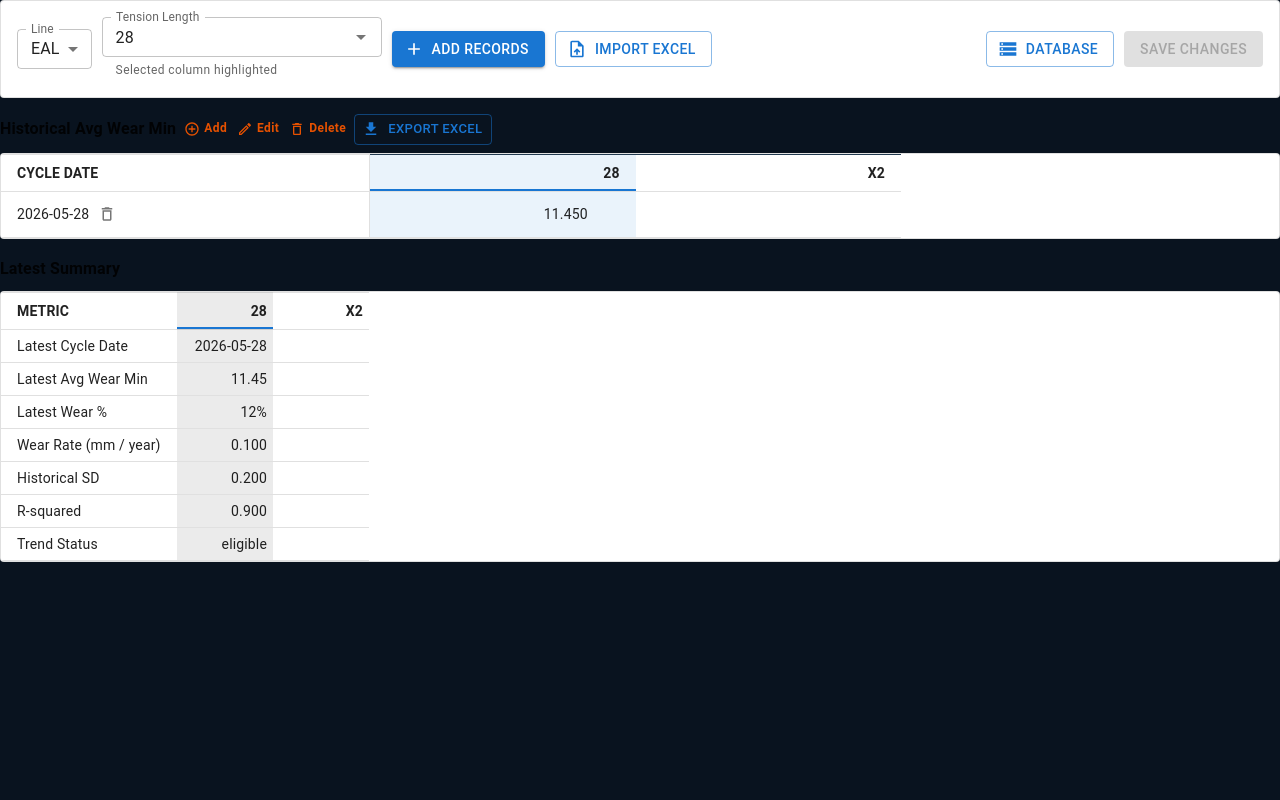
Test: WearRecordsPanel staged workbench › opens metadata-owned Add and Edit dialogs from matrix cells
Double-click the cell with test id "history-cell-2026-05-28-X2-empty" at [768, 215], box 636,192 -> 901,238
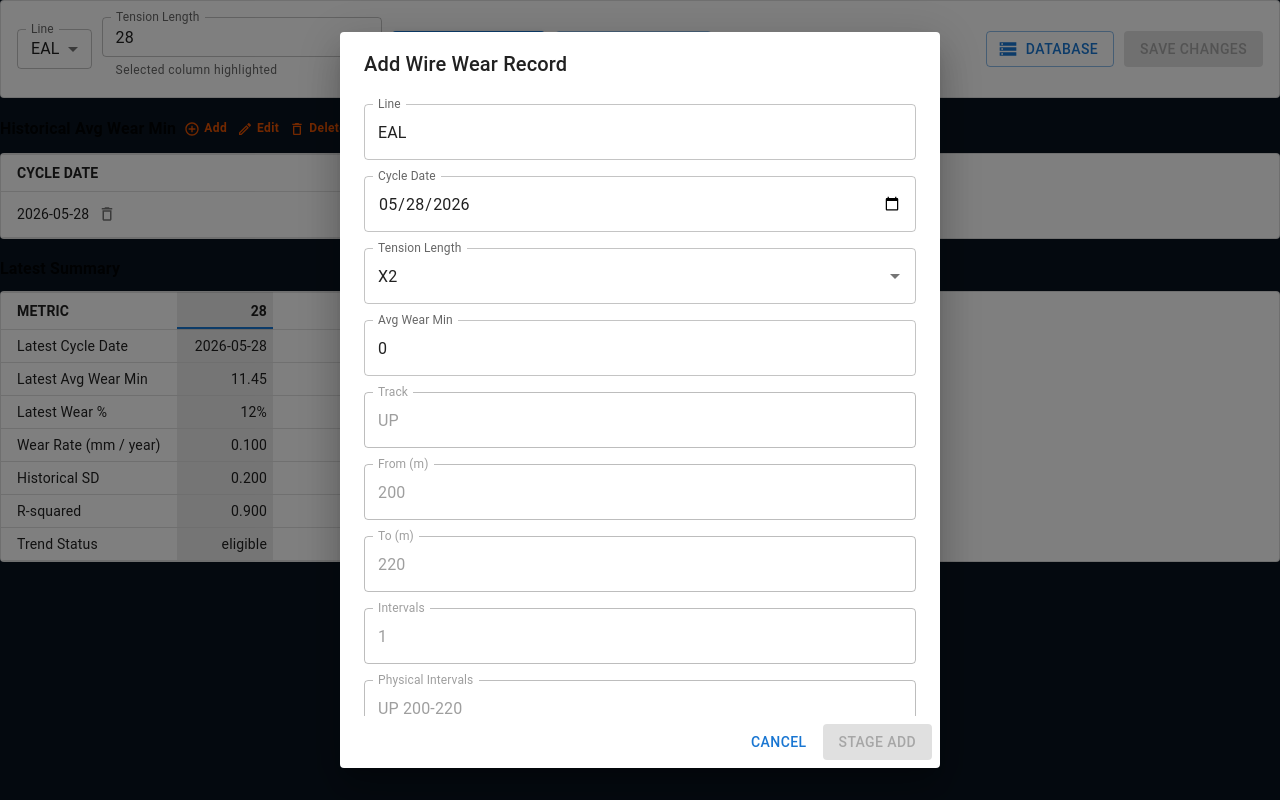
Now the field labelled "Line" holds "EAL", box 364,104 -> 916,160
Now the date field labelled "Cycle Date" holds "2026-05-28", box 364,176 -> 916,232
Now the dropdown labelled "Tension Length" holds "X2", box 373,257 -> 851,295
Click the button "Cancel". click: [779, 742]
box: 743,724 -> 815,760
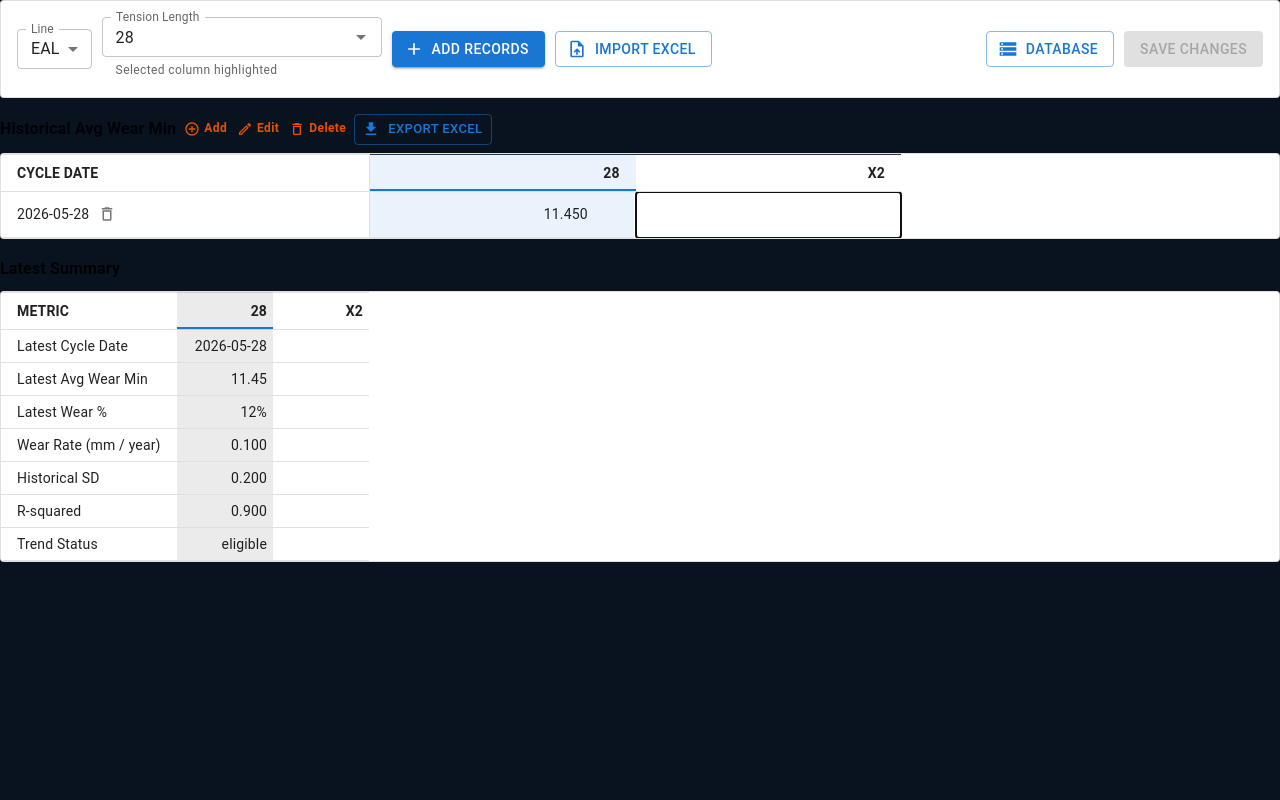
Double-click the cell with test id "history-cell-2026-05-28-28" at [503, 215], box 370,192 -> 636,238
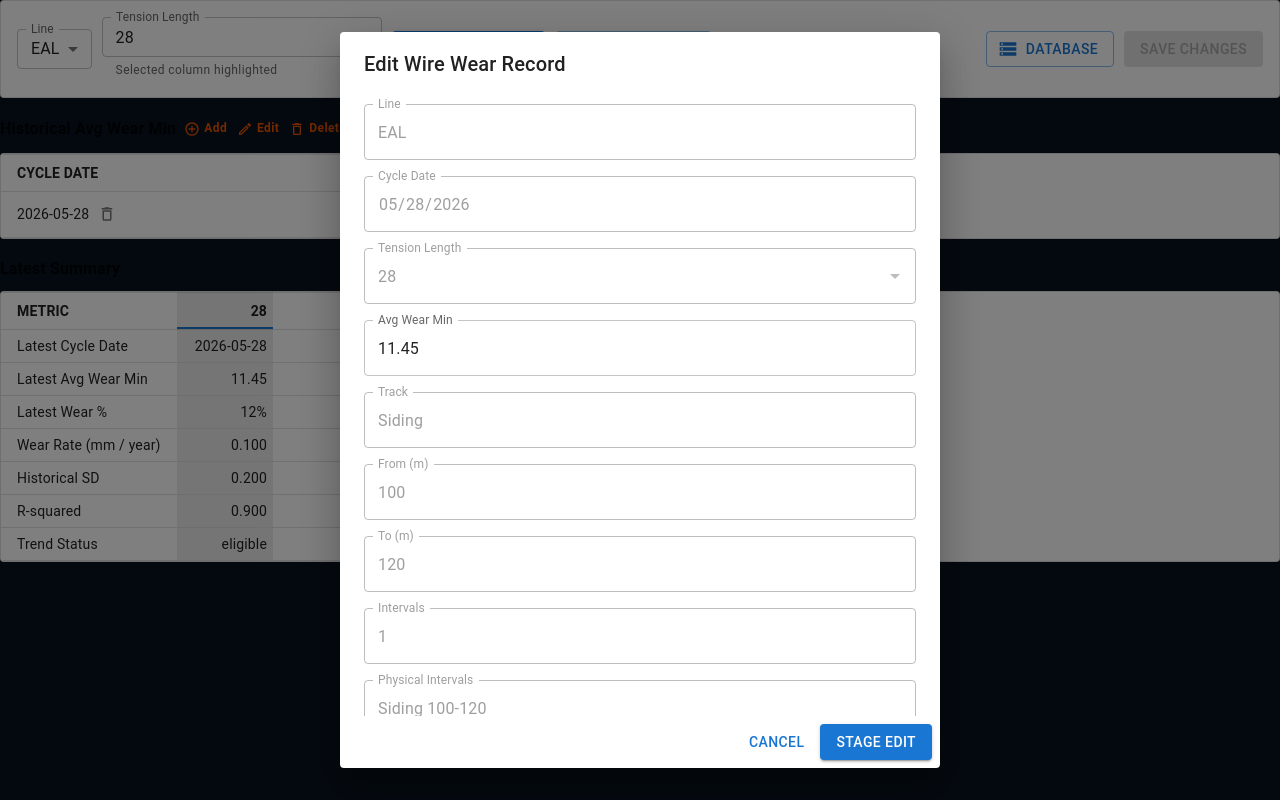
Now the dialog "Edit Wire Wear Record" is shown, box 340,32 -> 940,768
Now the number field labelled "Avg Wear Min" holds "11.45", box 364,320 -> 916,376
